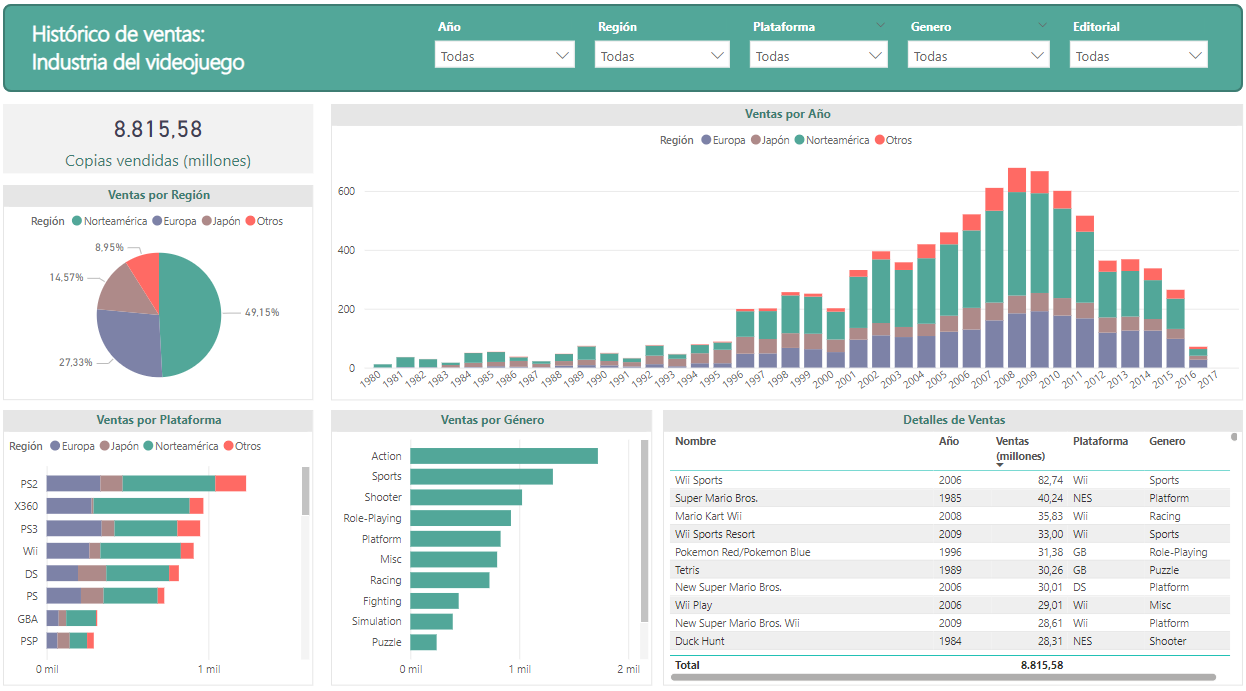

Layout of this report page (visuals, bound fields, positions):
{"tool":"powerbi","page":{"name":"Análisis Ventas","canvas":[1280,720],"ordinal":0},"visuals":[{"type":"tableEx","title":"Detalles de Ventas","fields":{"Values":["Ventas Videojuegos.Nombre","Ventas Videojuegos.Año","Sum(Ventas Videojuegos.Ventas (millones))","Ventas Videojuegos.Plataforma","Ventas Videojuegos.Genero"]},"box":[676.8,420.6,585,278.4],"z":0},{"type":"columnChart","title":"Millones de Ventas por Año","fields":{"Category":["Ventas Videojuegos.Año"],"Y":["Sum(Ventas Videojuegos.Ventas (millones))"],"Series":["Ventas Videojuegos.Región"]},"box":[341.9,112,919.9,298.6],"z":1000},{"type":"pieChart","title":"Ventas por Región","fields":{"Category":["Ventas Videojuegos.Región"],"Y":["Sum(Ventas Videojuegos.Ventas (millones))"]},"box":[11.1,193.7,312.7,216.9],"z":2000},{"type":"barChart","title":"Ventas por Plataforma","fields":{"Y":["Sum(Ventas Videojuegos.Ventas (millones))"],"Category":["Ventas Videojuegos.Plataforma"],"Series":["Ventas Videojuegos.Región"]},"box":[11.1,420.6,312.7,278.4],"z":3000},{"type":"barChart","title":"Ventas por Género","fields":{"Y":["Sum(Ventas Videojuegos.Ventas (millones))"],"Category":["Ventas Videojuegos.Genero"]},"box":[341.9,420.6,323.8,278.4],"z":4000},{"type":"card","fields":{"Values":["Sum(Ventas Videojuegos.Ventas (millones))"]},"box":[11.1,112,312.7,69.6],"z":5000},{"type":"shape","box":[11.1,11.1,1250.7,88.8],"z":5500},{"type":"slicer","fields":{"Values":["Ventas Videojuegos.Año"]},"box":[436.8,20.2,161.4,70.6],"z":6000},{"type":"slicer","fields":{"Values":["Ventas Videojuegos.Región"]},"box":[598.1,20.2,156.3,70.6],"z":7000},{"type":"slicer","fields":{"Values":["Ventas Videojuegos.Plataforma"]},"box":[754.5,20.2,159.4,70.6],"z":8000},{"type":"slicer","fields":{"Values":["Ventas Videojuegos.Genero"]},"box":[913.9,20.2,163.4,70.6],"z":9000},{"type":"slicer","fields":{"Values":["Ventas Videojuegos.Editorial"]},"box":[1077.3,20.2,159.4,70.6],"z":10000},{"type":"textbox","box":[35.3,20.2,264.3,70.6],"z":10001}]}

Visuals, with their boxes in screenshot pixels (x1, y1, x2, y2), scaled from the page's 1280x720 canvas onto the 1246x691 screenshot:
"Detalles de Ventas" tableEx: bbox(659, 404, 1228, 671)
"Millones de Ventas por Año" columnChart: bbox(333, 107, 1228, 394)
"Ventas por Región" pieChart: bbox(11, 186, 315, 394)
"Ventas por Plataforma" barChart: bbox(11, 404, 315, 671)
"Ventas por Género" barChart: bbox(333, 404, 648, 671)
card - Sum(Ventas Videojuegos.Ventas (millones)): bbox(11, 107, 315, 174)
shape: bbox(11, 11, 1228, 96)
slicer - Ventas Videojuegos.Año: bbox(425, 19, 582, 87)
slicer - Ventas Videojuegos.Región: bbox(582, 19, 734, 87)
slicer - Ventas Videojuegos.Plataforma: bbox(734, 19, 890, 87)
slicer - Ventas Videojuegos.Genero: bbox(890, 19, 1049, 87)
slicer - Ventas Videojuegos.Editorial: bbox(1049, 19, 1204, 87)
textbox: bbox(34, 19, 292, 87)
